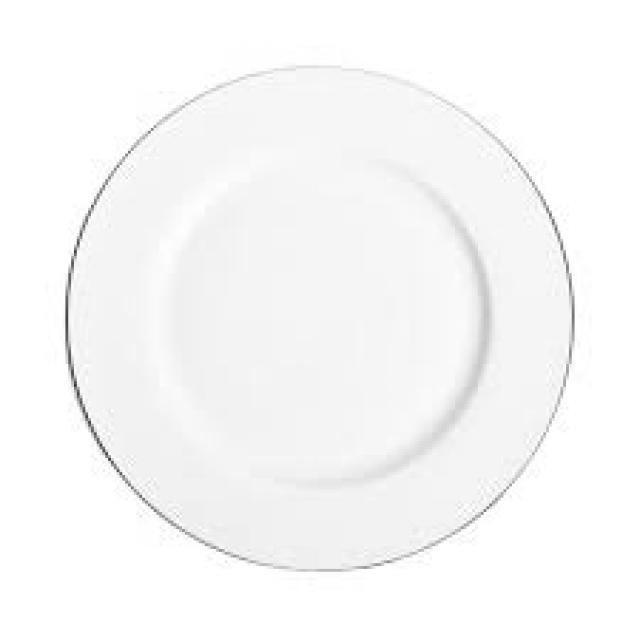dish: (43, 52, 602, 592)
